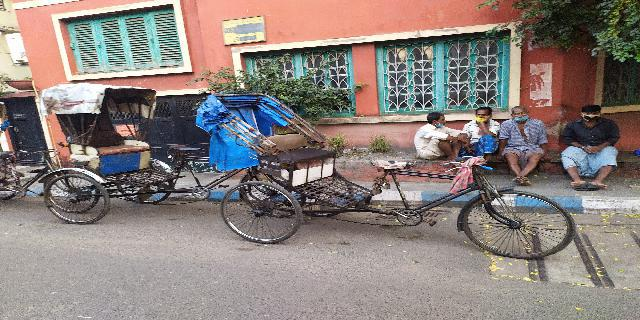Rickshaw: (191, 84, 573, 263), (32, 78, 231, 220)
